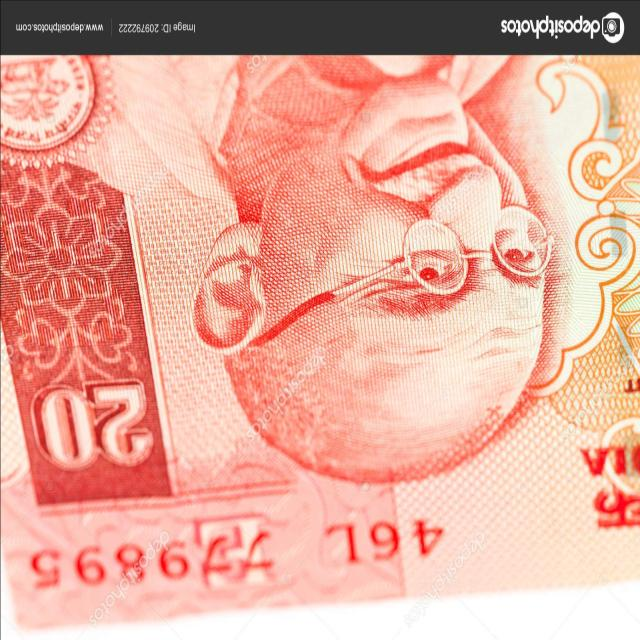20IndianRupees: (0, 54, 640, 587)
